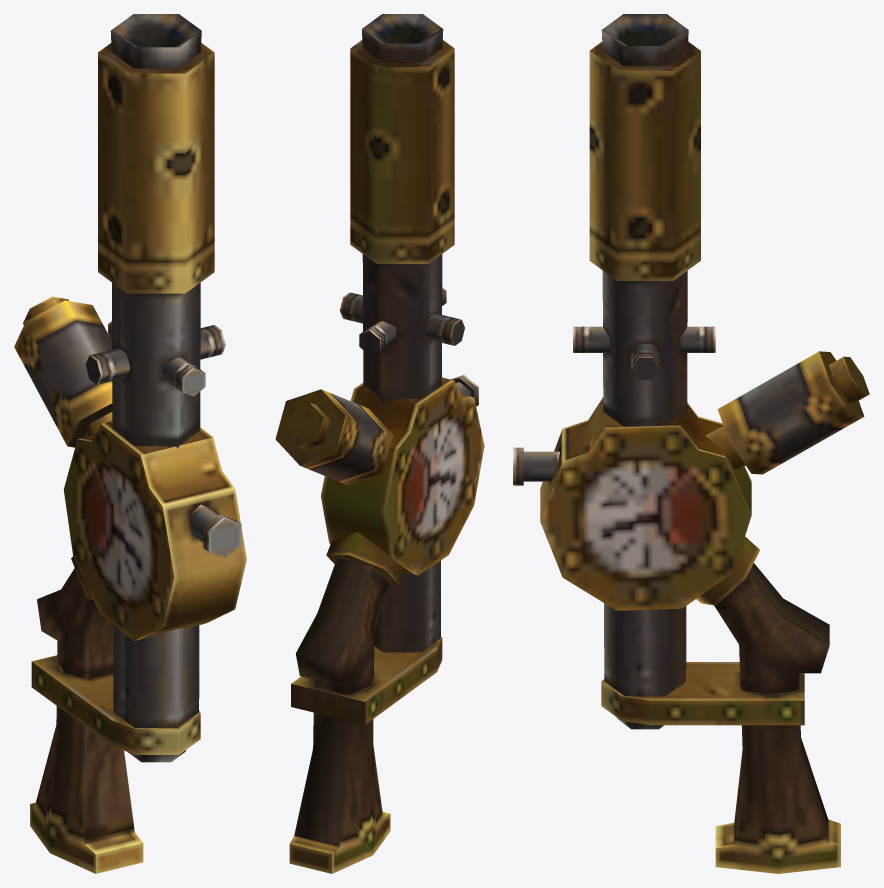
Rendered from rifle10_235fa807.glb.
3 views of the same model, side by side, from view 1: azimuth 30°, elevation 25°; view 2: azimuth 150°, elevation 25°; view 3: azimuth 270°, elevation 25° (orthographic). The views are drawn at different scales.
Size of the model in its own units: 0.2435 by 1.61 by 0.6293.
Materials: 1 (1 with a texture image).
